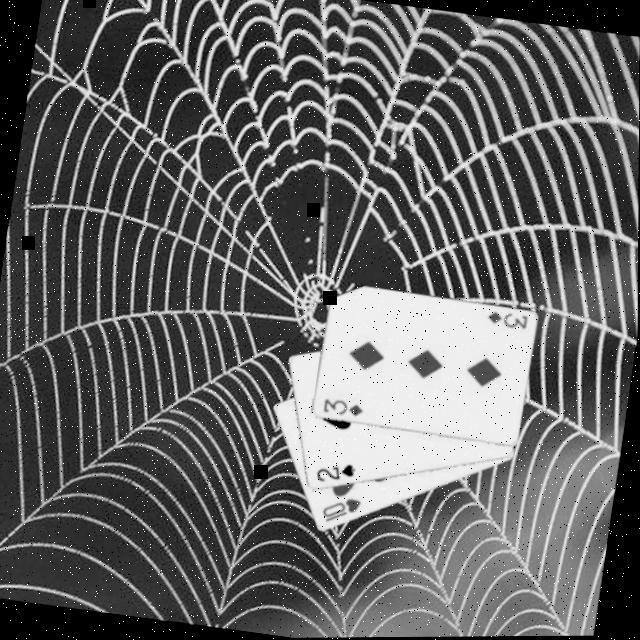10H: (321, 494, 366, 532)
2S: (314, 460, 361, 492)
3D: (485, 309, 532, 336), (322, 397, 368, 423)
